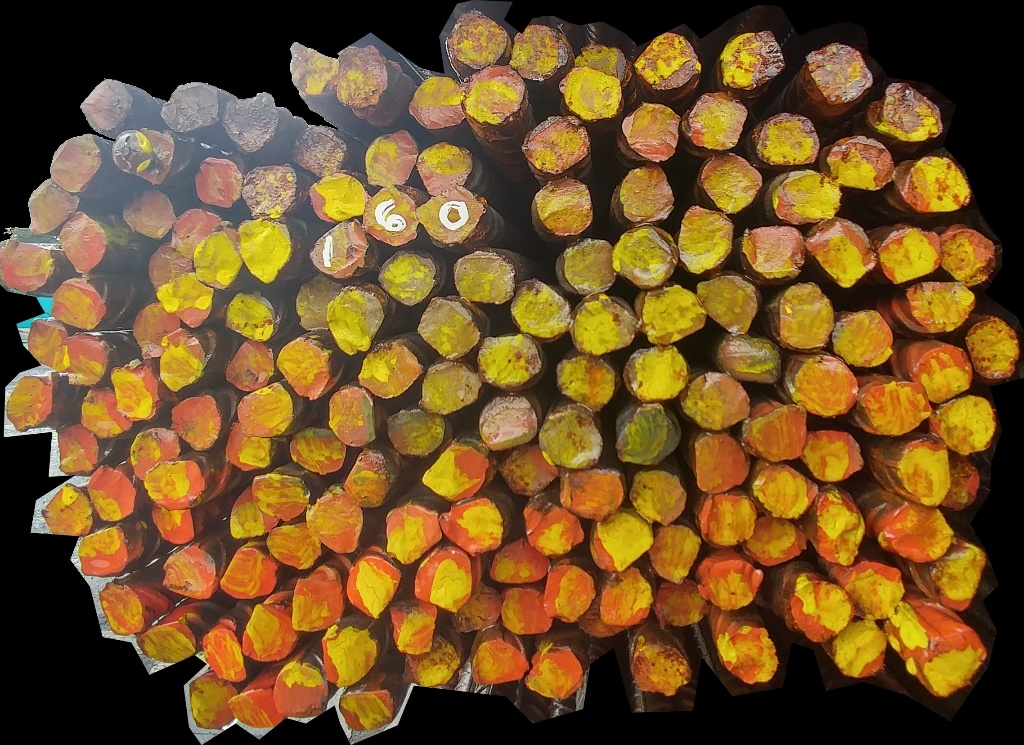dipstick: (805, 218, 875, 287), (924, 541, 988, 614), (871, 84, 942, 145), (803, 42, 872, 103), (441, 12, 508, 74), (797, 352, 858, 420), (640, 280, 703, 345), (610, 224, 672, 290), (922, 629, 982, 697), (768, 167, 843, 221), (696, 271, 758, 336), (411, 548, 474, 610), (697, 547, 761, 608), (882, 507, 951, 563), (690, 370, 760, 425), (237, 598, 301, 658), (830, 309, 896, 367), (383, 505, 444, 567), (524, 116, 588, 175), (216, 544, 283, 600), (895, 439, 951, 505), (720, 621, 776, 687), (722, 31, 783, 91), (620, 404, 677, 468), (904, 282, 974, 334), (965, 315, 1017, 385), (740, 227, 807, 281), (537, 408, 596, 469), (749, 402, 807, 464), (788, 583, 850, 641), (268, 661, 331, 718), (878, 222, 942, 278), (680, 209, 735, 274), (518, 505, 588, 556), (690, 438, 756, 492), (810, 498, 863, 565), (420, 448, 491, 498), (845, 558, 905, 617), (530, 180, 598, 232), (222, 94, 282, 152), (465, 67, 523, 127), (161, 545, 219, 605), (420, 301, 481, 358), (477, 336, 545, 387), (511, 283, 575, 337), (444, 496, 508, 550), (357, 341, 421, 395), (774, 285, 832, 344), (309, 495, 367, 554), (196, 625, 254, 684), (621, 103, 678, 163), (737, 514, 804, 565), (561, 238, 618, 297), (343, 448, 400, 507), (329, 288, 384, 349), (945, 222, 994, 290), (504, 24, 562, 81), (631, 470, 688, 527), (618, 169, 678, 223), (752, 118, 818, 167), (902, 160, 968, 209), (562, 68, 623, 121), (388, 407, 449, 460), (451, 251, 512, 304), (405, 76, 467, 128), (827, 136, 889, 188), (914, 344, 971, 400), (235, 385, 292, 441), (525, 647, 583, 702), (417, 192, 483, 240), (803, 430, 869, 478), (696, 495, 756, 547), (8, 376, 68, 428), (156, 83, 217, 134), (864, 381, 925, 432), (327, 382, 378, 443), (687, 98, 749, 148), (361, 189, 417, 244), (243, 218, 297, 275), (640, 36, 698, 89), (942, 396, 995, 454), (58, 332, 111, 390), (169, 389, 220, 449), (600, 568, 655, 623), (838, 623, 894, 677), (752, 467, 815, 515), (632, 345, 689, 398), (226, 340, 284, 392), (702, 158, 761, 209), (557, 358, 621, 405), (497, 449, 561, 496), (592, 518, 652, 568), (191, 232, 247, 285), (287, 125, 345, 176), (635, 645, 695, 694), (307, 223, 367, 272), (347, 557, 400, 612), (251, 470, 309, 520), (124, 424, 177, 478), (649, 523, 701, 578), (277, 342, 332, 394), (189, 677, 241, 732), (85, 467, 137, 522), (480, 396, 536, 447), (240, 168, 298, 217), (570, 297, 629, 345), (290, 424, 343, 477), (227, 291, 281, 343), (157, 334, 208, 389), (545, 567, 595, 623), (2, 241, 52, 297), (652, 576, 710, 624), (380, 257, 438, 305), (341, 49, 387, 109), (50, 138, 103, 190), (725, 337, 780, 387), (95, 582, 150, 632), (321, 628, 378, 676), (115, 137, 176, 181), (43, 489, 100, 536), (291, 43, 341, 96), (135, 621, 198, 663), (422, 365, 482, 409), (418, 145, 471, 194), (296, 575, 343, 630), (568, 472, 628, 515), (25, 315, 71, 371), (76, 84, 131, 130), (28, 183, 83, 229), (51, 282, 112, 323), (407, 636, 458, 685), (191, 160, 243, 208), (492, 545, 554, 585), (387, 601, 437, 650), (51, 427, 103, 474), (142, 465, 204, 504), (500, 588, 556, 631), (367, 135, 416, 184), (56, 218, 108, 264), (167, 208, 222, 251), (333, 689, 389, 731), (130, 302, 178, 351), (76, 529, 128, 574), (80, 388, 128, 436), (311, 176, 365, 218), (298, 280, 340, 334), (454, 588, 501, 636), (110, 371, 156, 420), (469, 643, 529, 680), (118, 194, 175, 232), (264, 525, 314, 568), (230, 424, 277, 468), (574, 43, 628, 80), (147, 249, 195, 287), (229, 690, 282, 724), (156, 502, 195, 542), (944, 462, 977, 507)
